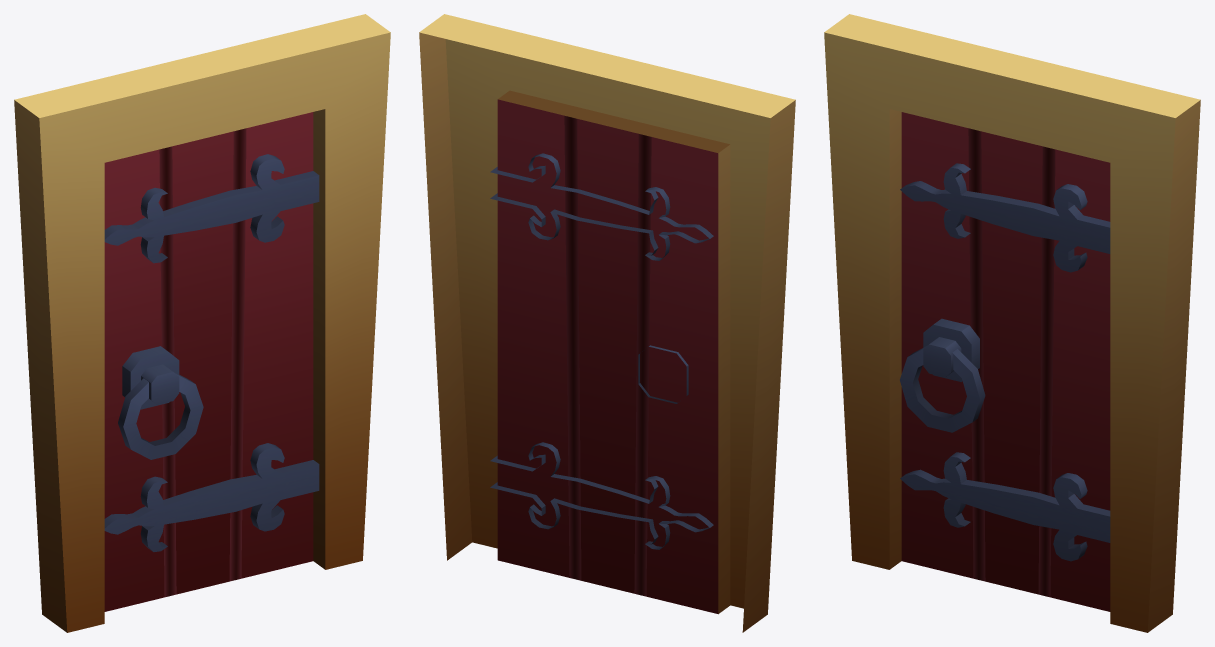
Rendered from Door_03A.fbx.
3 renders of one model, left to right at view 1: azimuth 30°, elevation 25°; view 2: azimuth 150°, elevation 25°; view 3: azimuth 330°, elevation 25°, orthographic.
Visible parts, largest first — view 1: Door_03A; view 2: Door_03A; view 3: Door_03A.
Part boxes in pixels (bbox=[...]): Door_03A: bbox=[14, 14, 390, 632]; Door_03A: bbox=[419, 14, 795, 632]; Door_03A: bbox=[824, 14, 1200, 632].
Bounding box in the file's own units: 170 × 240 × 26.49.
2 materials, 2 textured.
